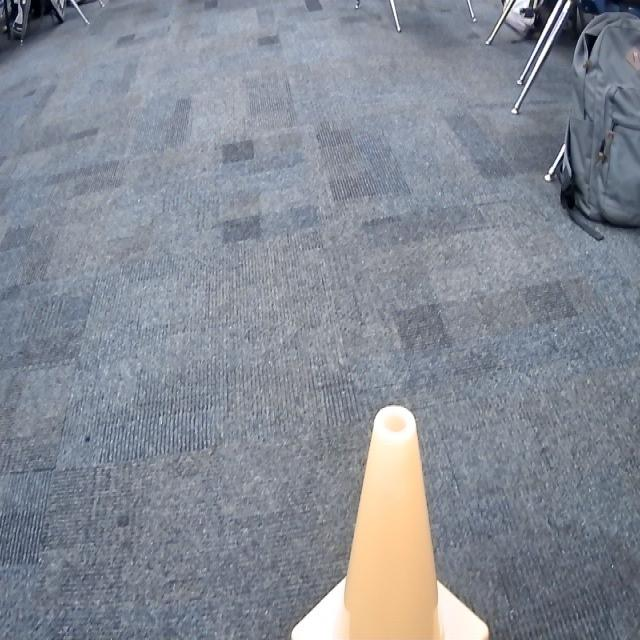cone: (287, 401, 491, 640)
